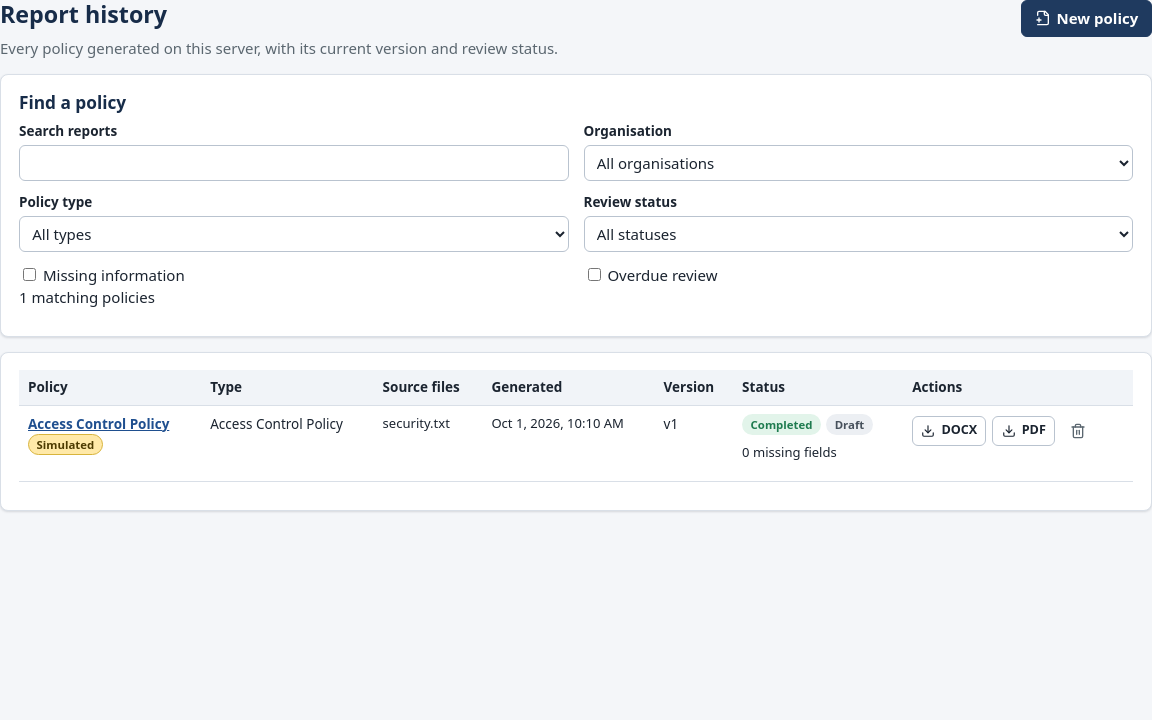
Test: ReportsPage (history) › lists reports with type, sources, version and status, and deletes after confirmation
Expected: the row "Access Control Policy" shows "security.txt", 383,414 -> 450,432
Expected: the row "Access Control Policy" shows "v1", 664,415 -> 678,433
What coordinates should you click on to do the following:
click the button named "Delete Access Control Policy"
I would click on:
 (1078, 431)
Its box is 1061,414 -> 1095,448.
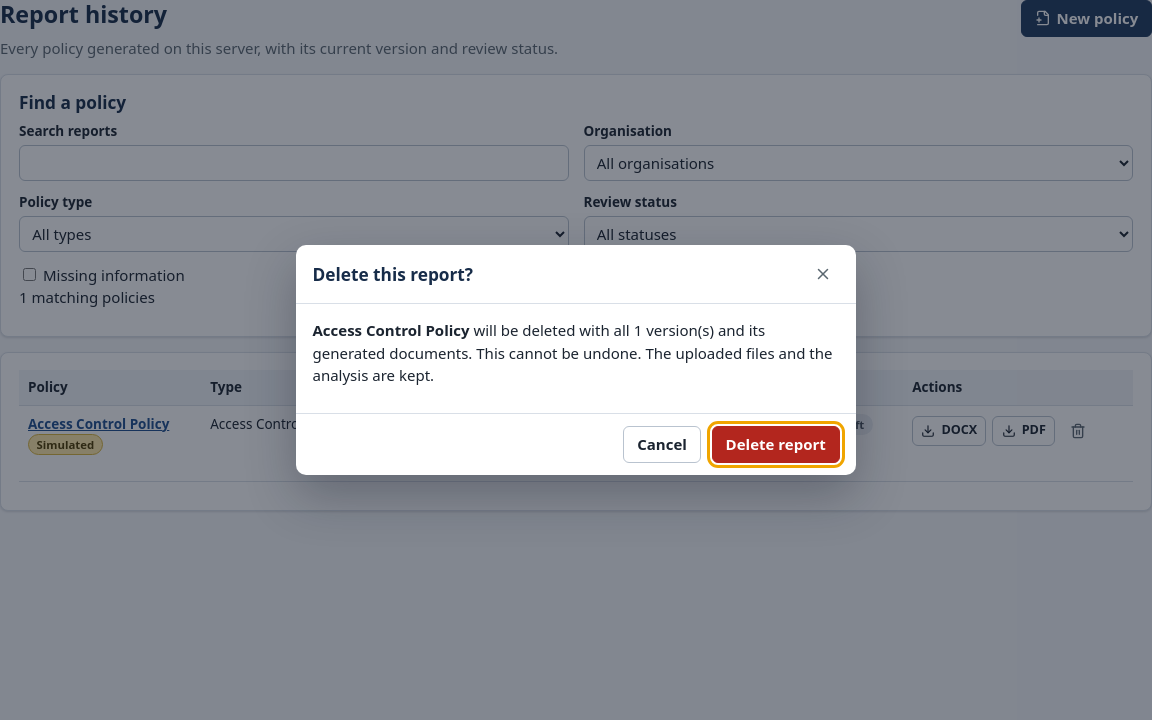
Result: the dialog "Delete this report?" shows "This cannot be undone" at 312,320 -> 832,385
What coordinates should you click on to do the following:
click the button "Cancel"
I would click on:
 (662, 444)
Its box is 624,426 -> 701,463.
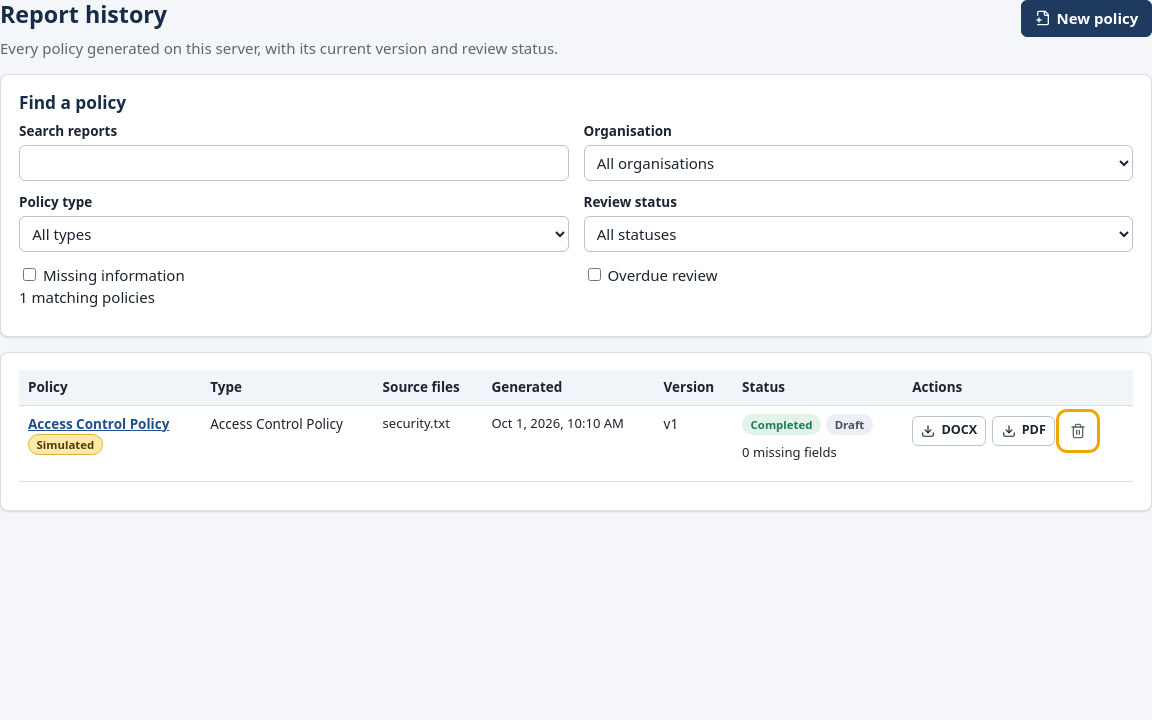
What coordinates should you click on to do the following:
click the button named "Delete Access Control Policy"
I would click on:
 (1078, 431)
Its box is 1061,414 -> 1095,448.
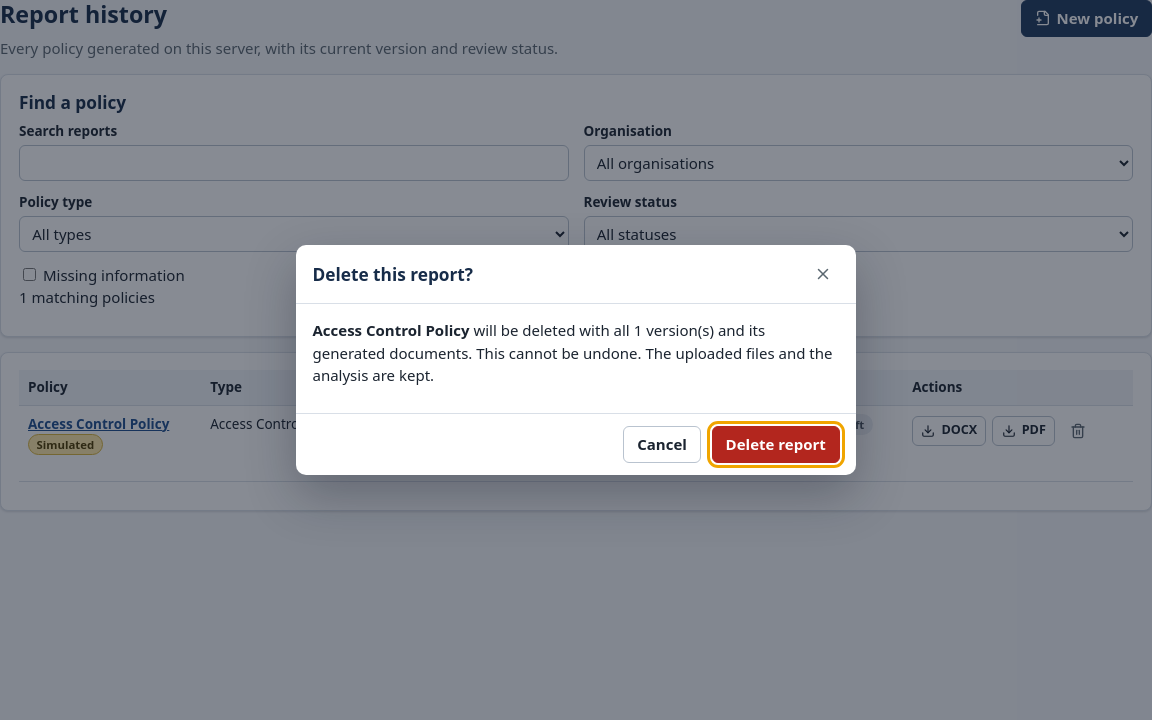
What coordinates should you click on to do the following:
click the button "Delete report"
I would click on:
 (776, 444)
Its box is 712,426 -> 840,463.
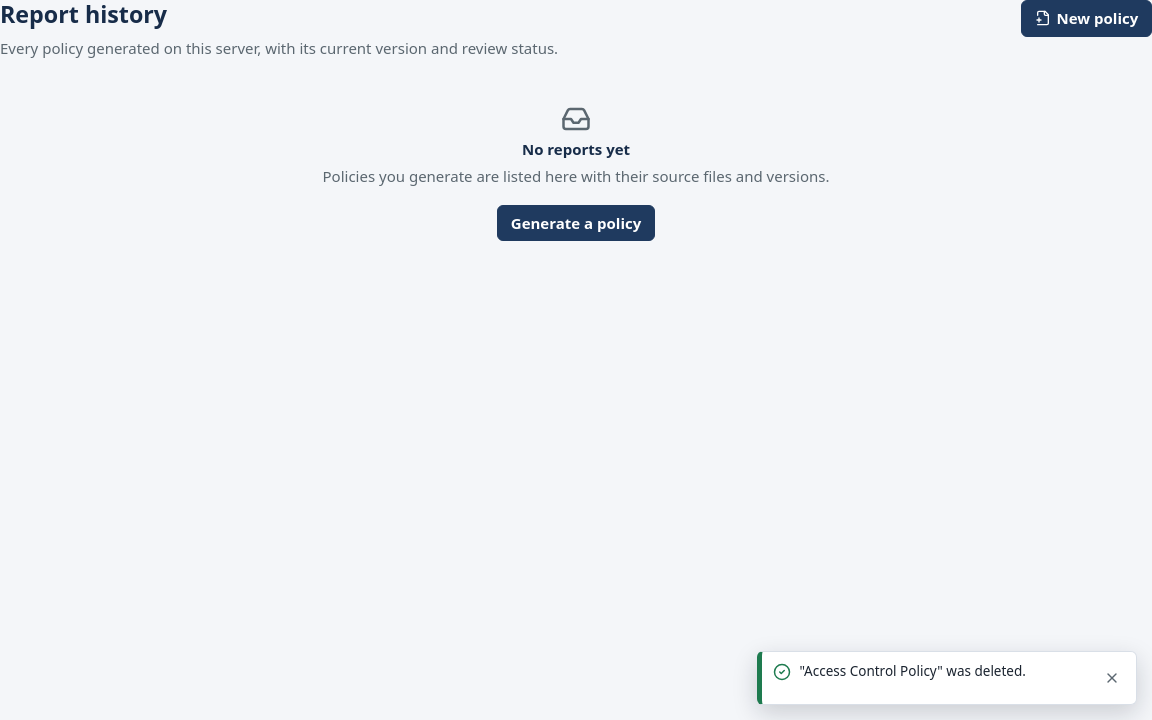
Result: the heading "No reports yet" is shown at 522,140 -> 630,159
